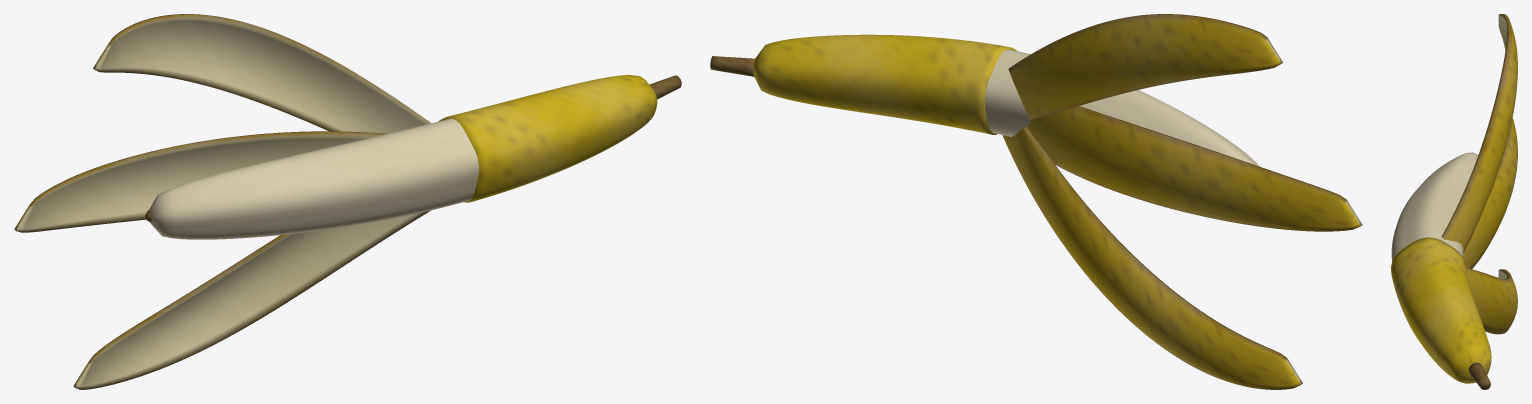
The model's file is banana.glb.
3 views of the same model, side by side, from view 1: azimuth 30°, elevation 25°; view 2: azimuth 150°, elevation 25°; view 3: azimuth 270°, elevation 25° (orthographic). The views are drawn at different scales.
Parts seen in each view (by area): view 1: flesh, peel_2, peel_1, unopened_skin, peel_3; view 2: peel_3, unopened_skin, peel_1, peel_2, flesh, stem; view 3: unopened_skin, peel_2, flesh, peel_3, peel_1, stem.
Boxes of the visible parts, <box> form: flesh: <box>149,118,478,239</box>; peel_2: <box>93,14,430,133</box>; peel_1: <box>73,210,430,389</box>; unopened_skin: <box>438,75,657,202</box>; peel_3: <box>14,131,387,232</box>; peel_3: <box>1027,106,1362,231</box>; unopened_skin: <box>753,34,1016,134</box>; peel_1: <box>1002,127,1302,389</box>; peel_2: <box>1008,14,1282,119</box>; flesh: <box>984,49,1259,166</box>; stem: <box>710,56,755,76</box>; unopened_skin: <box>1391,237,1491,383</box>; peel_2: <box>1441,14,1517,252</box>; flesh: <box>1391,152,1478,261</box>; peel_3: <box>1463,118,1517,268</box>; peel_1: <box>1466,267,1517,334</box>; stem: <box>1468,362,1490,389</box>.
Bounding box in the file's own units: 8.31 × 4.3 × 1.66.
